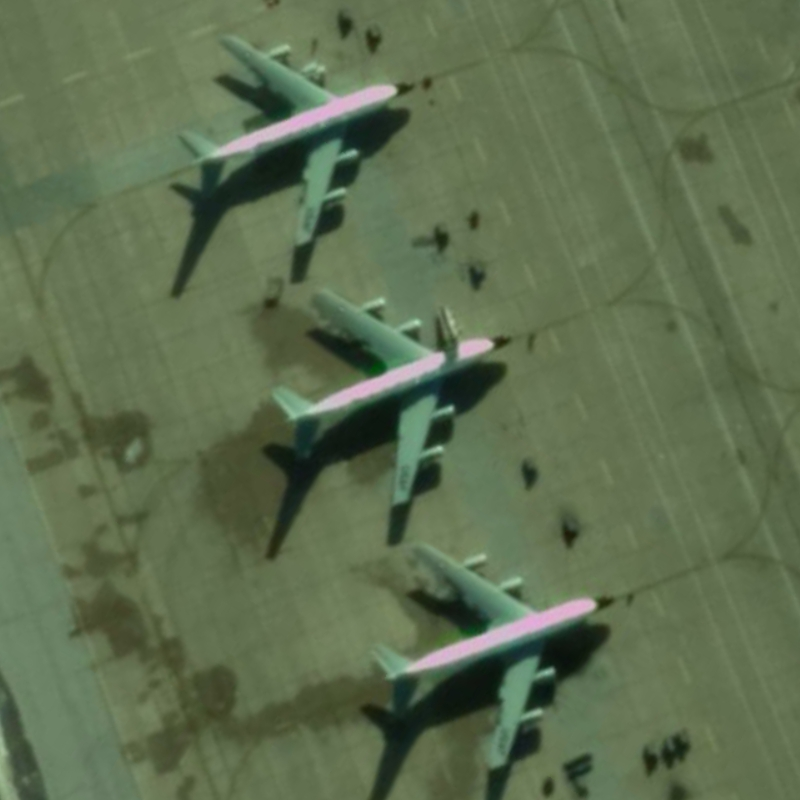A11: (356, 533, 631, 783), (166, 25, 427, 264), (266, 278, 522, 518)
